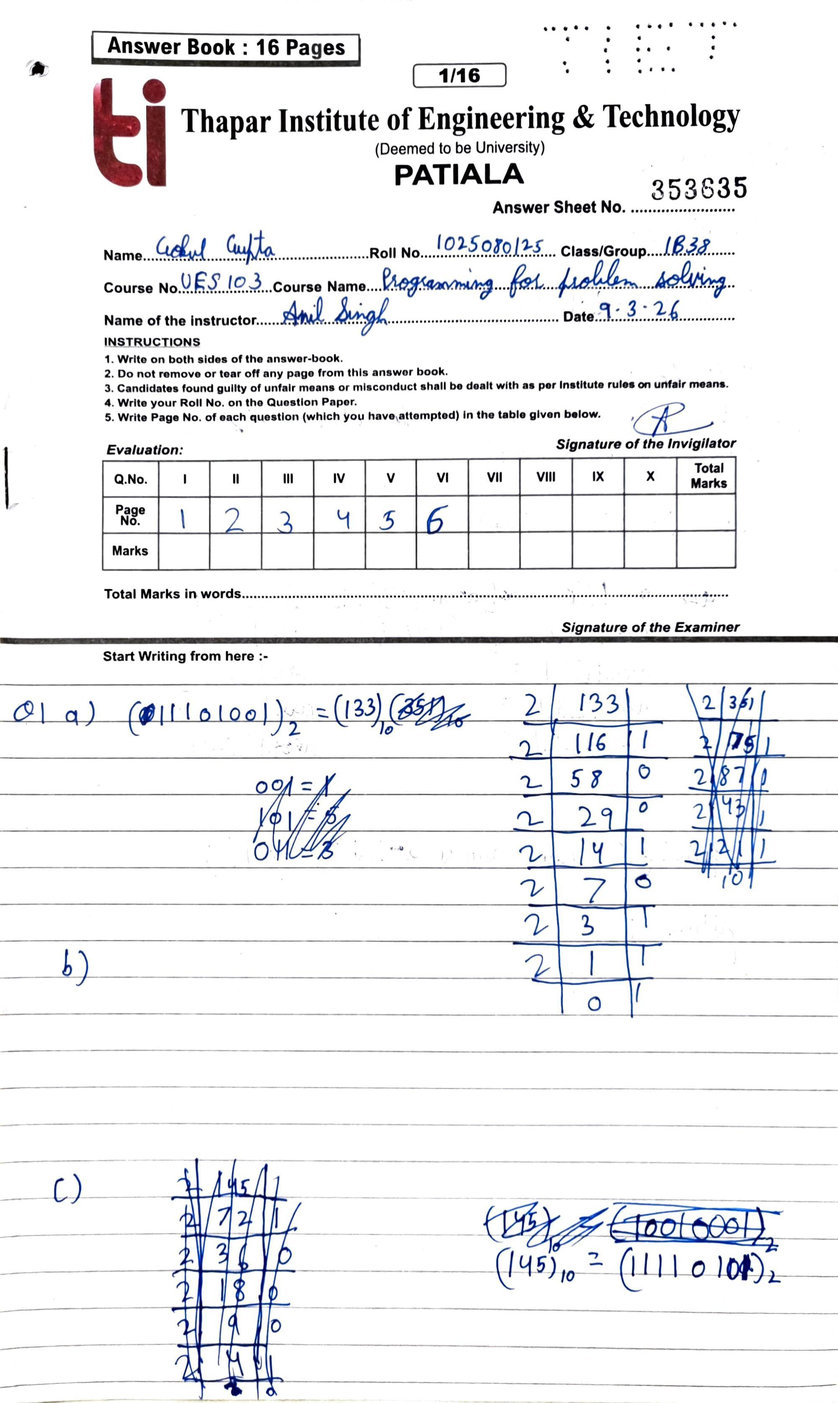cuttings: (162, 1149, 309, 1402), (671, 679, 795, 896), (476, 1195, 787, 1256), (240, 766, 358, 870), (388, 692, 478, 732), (134, 701, 158, 730)
